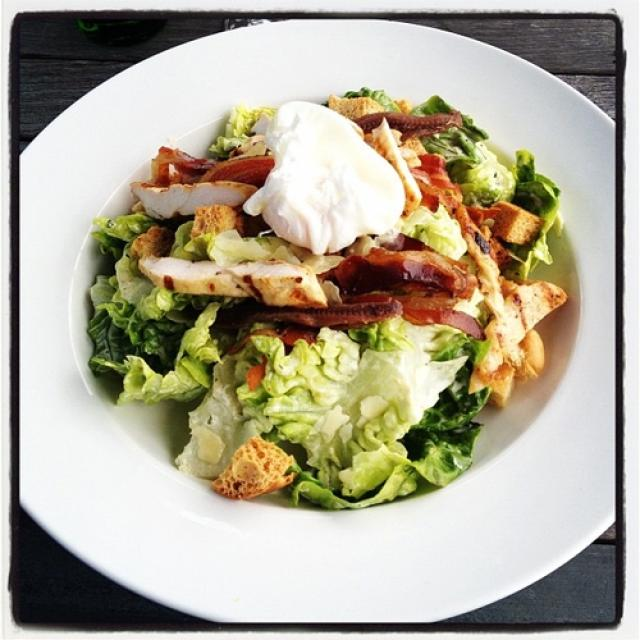蔬菜料理: (15, 13, 617, 626)
